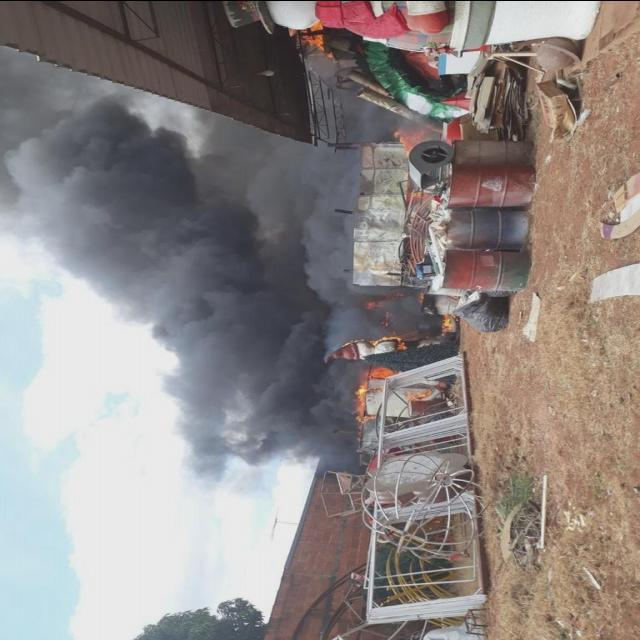Fire: (294, 23, 332, 57), (351, 384, 371, 424), (394, 126, 418, 154), (358, 367, 392, 382), (409, 385, 433, 400), (438, 312, 454, 332)
